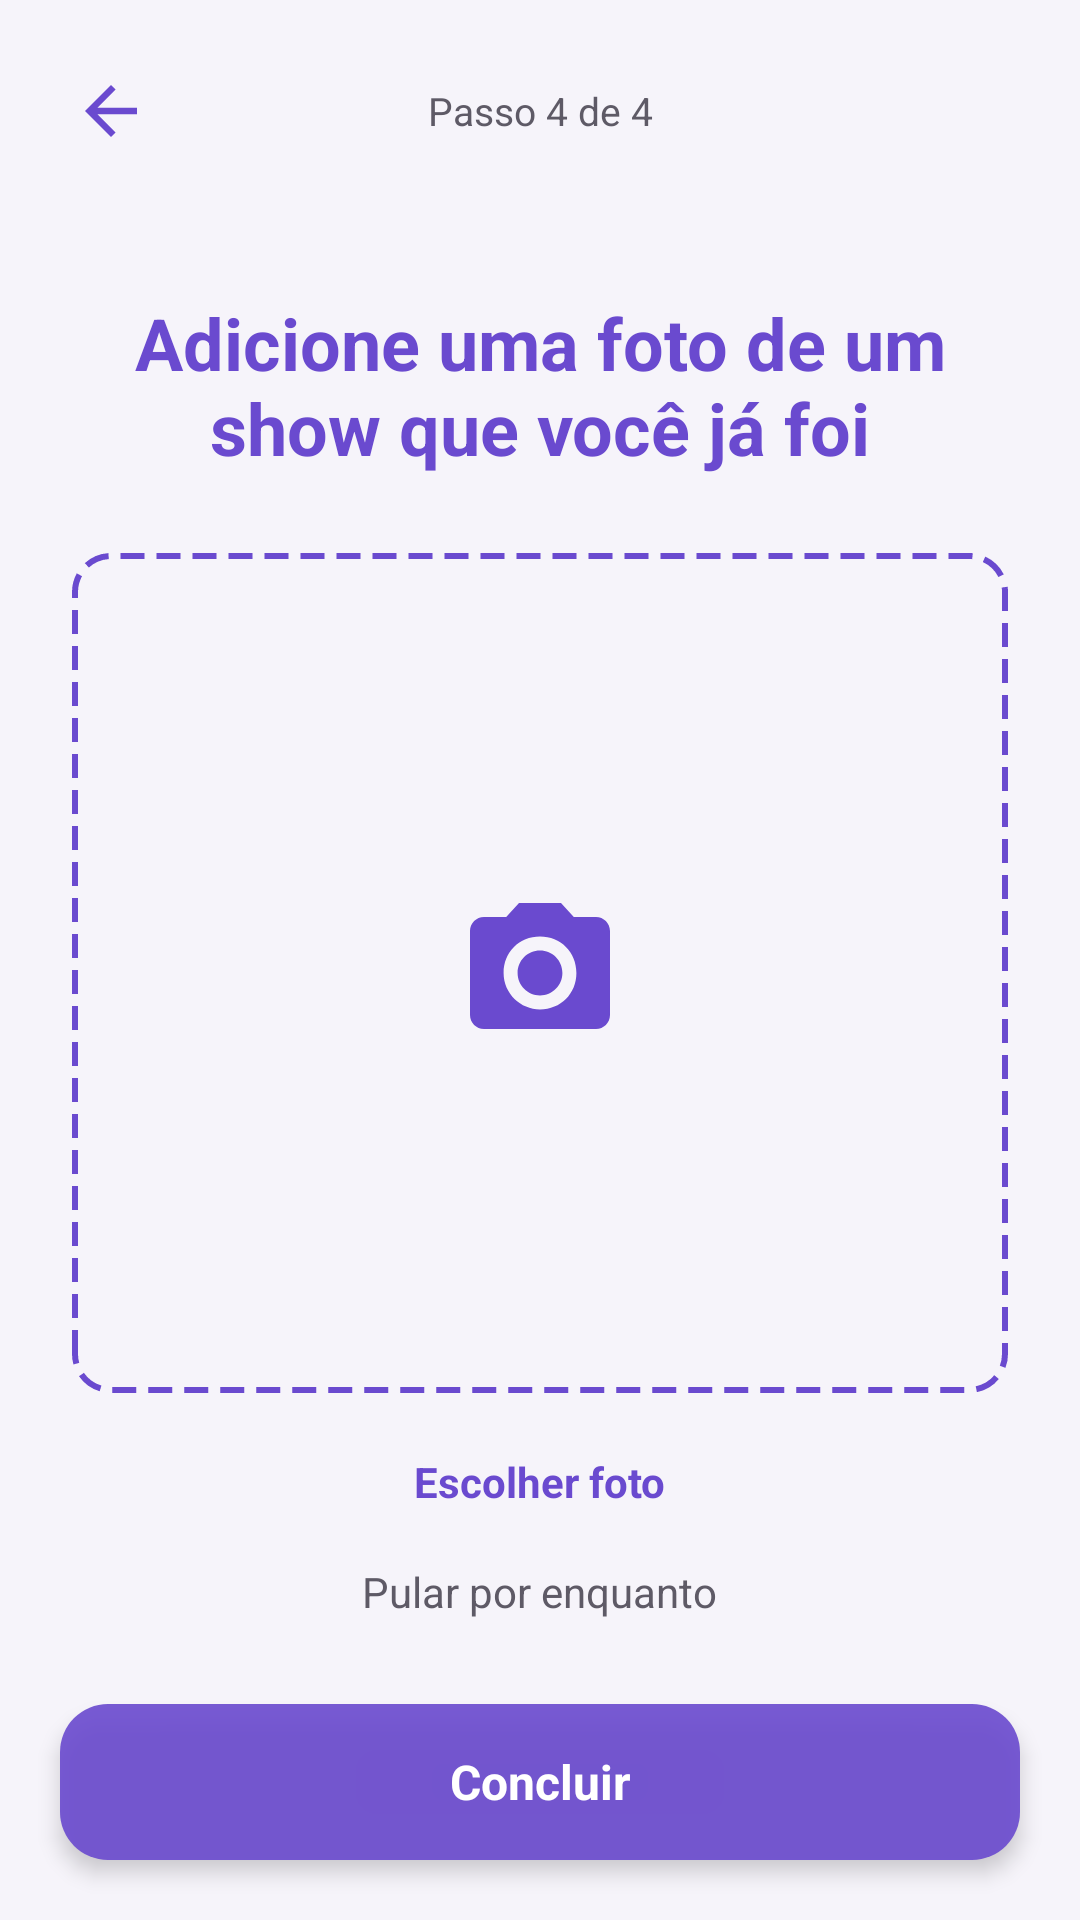

Where icons sit on this 1080x1920 app screen, as detection(x1, y1, x2, y2):
back: detection(85, 85, 137, 137)
camera: detection(470, 903, 610, 1029)
